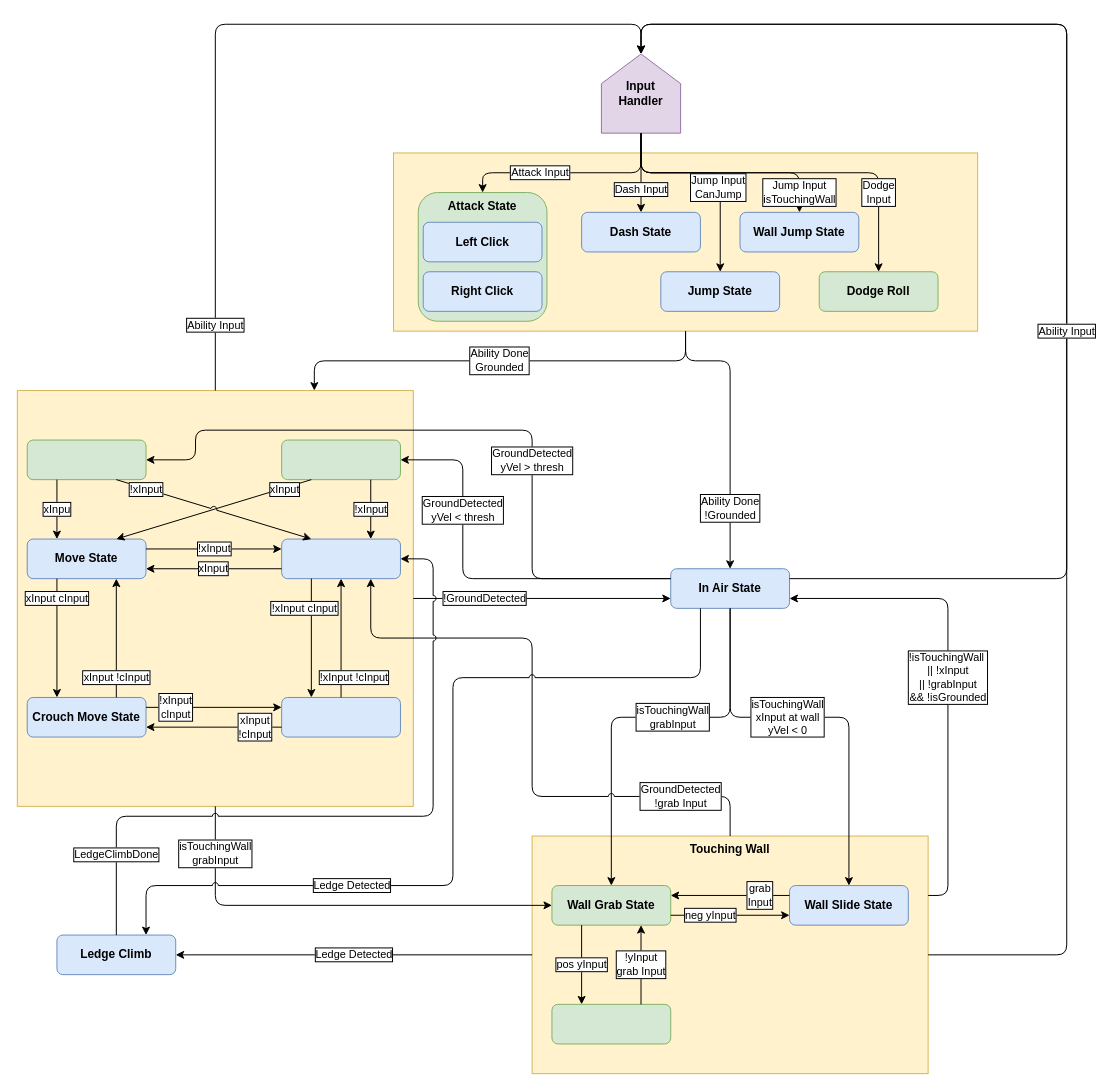
This 1113x1091 diagram has some shape labels left out. The shapes that lost their labels are listed below. From the top down, each one's box as (x1, y1, x2, y2) in pixels, then its label:
(393, 152, 978, 331): Ability
(26, 439, 146, 480): Hard Landing State
(281, 439, 400, 480): Land State
(281, 538, 400, 579): Idle State
(16, 390, 413, 806): Grounded
(281, 696, 400, 737): Crouch Idle State
(551, 1003, 671, 1044): Wall Climb State
